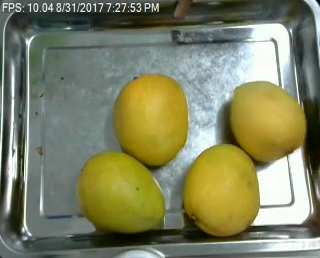Mango: (79, 150, 166, 233), (184, 142, 261, 234), (114, 75, 189, 164), (230, 78, 306, 159)
